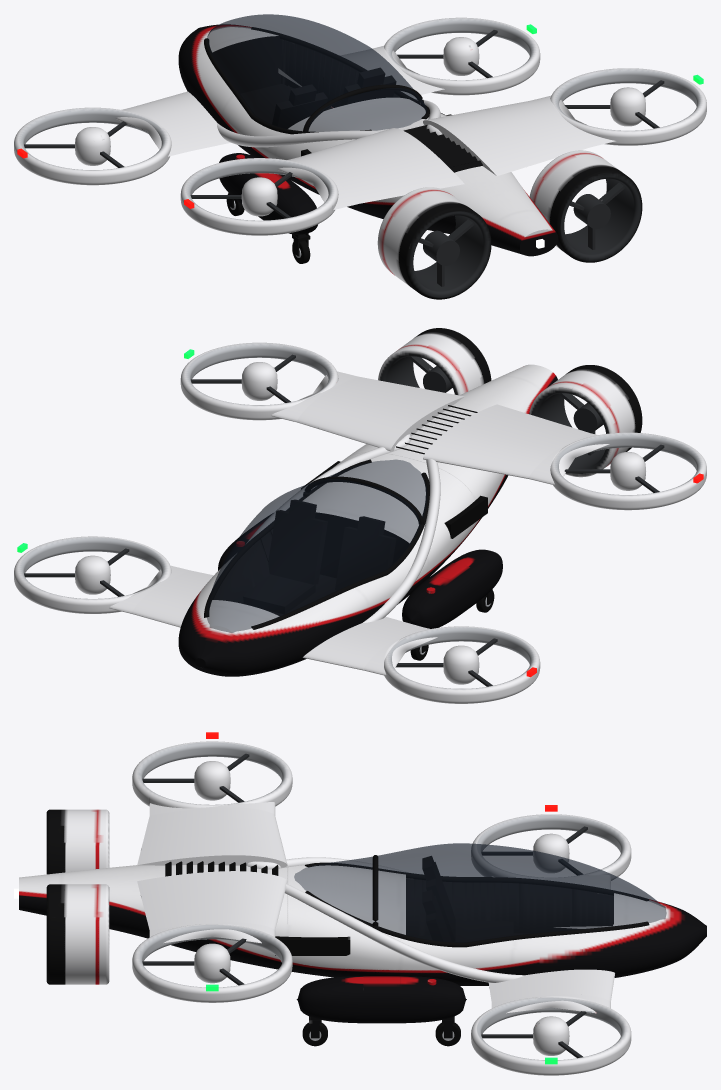
Rendered from x1_body.glb.
The picture shows the model from 3 angles, top to bottom: view 1: azimuth 30°, elevation 25°; view 2: azimuth 150°, elevation 25°; view 3: azimuth 270°, elevation 25°; orthographic projection.
Parts seen in each view (by area): view 1: x1_body; view 2: x1_body; view 3: x1_body.
Part boxes in pixels (bbox=[...]): x1_body: bbox=[14, 14, 706, 299]; x1_body: bbox=[14, 328, 706, 703]; x1_body: bbox=[14, 732, 706, 1075].
Bounding box in the file's own units: 4.8 × 1.3 × 5.52.
5 materials, 1 textured.
